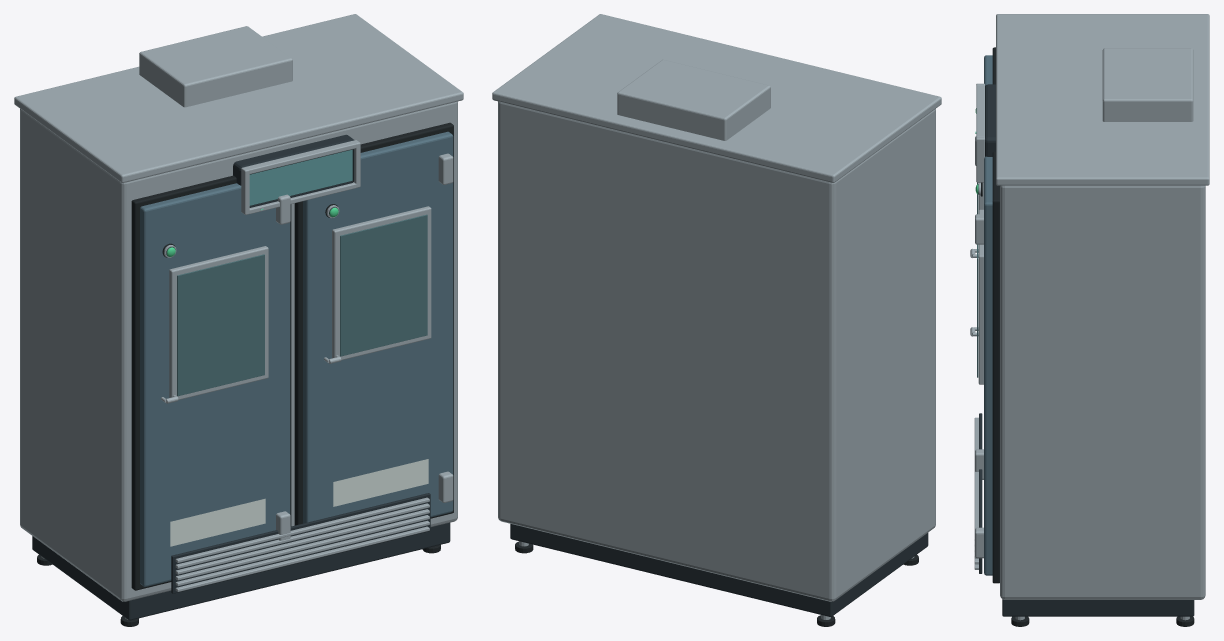
The model's file is OD_MealRegenerationCabinet.fbx.
3 views of the same model, side by side, from view 1: azimuth 30°, elevation 25°; view 2: azimuth 150°, elevation 25°; view 3: azimuth 270°, elevation 25° (orthographic).
Visible parts, largest first — view 1: OD_MealRegenerationCabinet; view 2: OD_MealRegenerationCabinet; view 3: OD_MealRegenerationCabinet.
Boxes of the visible parts, bbox=[...] form: OD_MealRegenerationCabinet: bbox=[14, 14, 463, 626]; OD_MealRegenerationCabinet: bbox=[492, 14, 941, 626]; OD_MealRegenerationCabinet: bbox=[970, 14, 1209, 626].
Size of the model in its own units: 172 by 233 by 106.
